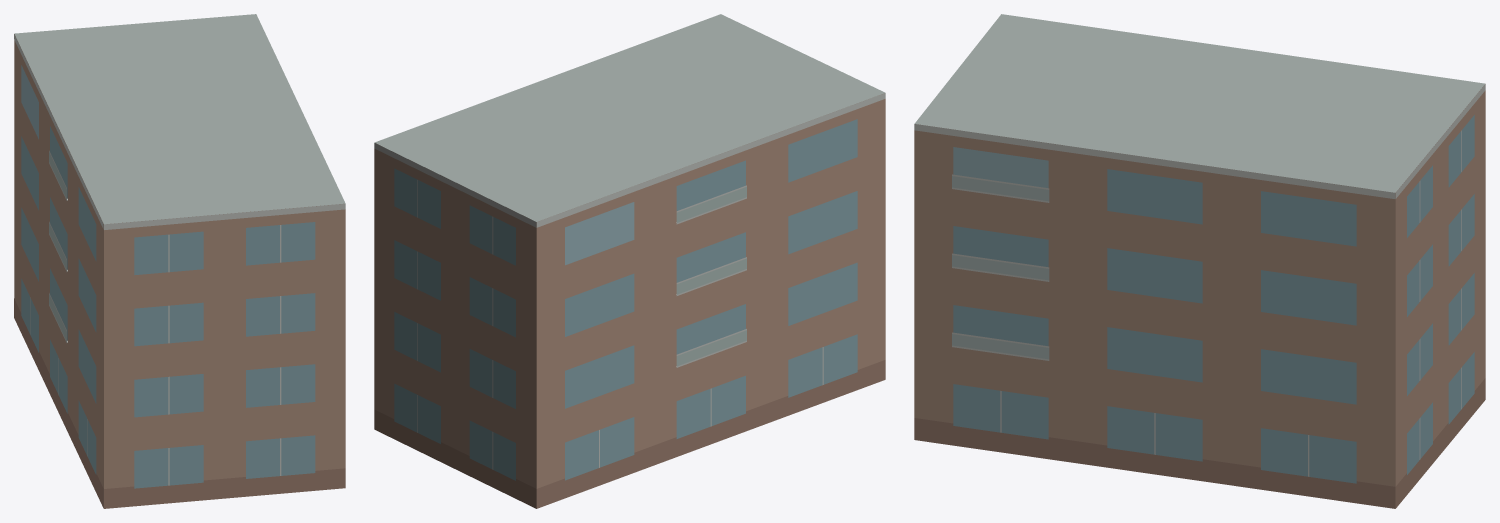
File: survey-upis-32706154.glb
3 renders of one model, left to right at view 1: azimuth 30°, elevation 25°; view 2: azimuth 150°, elevation 25°; view 3: azimuth 270°, elevation 25°, orthographic. The views are drawn at different scales.
Visible parts, largest first — view 1: survey-upis-32706154.tmp; view 2: survey-upis-32706154.tmp; view 3: survey-upis-32706154.tmp.
Part boxes in pixels (x1,y1,x2,y2): survey-upis-32706154.tmp: [14, 14, 345, 508]; survey-upis-32706154.tmp: [374, 14, 885, 508]; survey-upis-32706154.tmp: [914, 14, 1485, 508].
Bounding box in the file's own units: 14.45 × 11.9 × 19.5.
